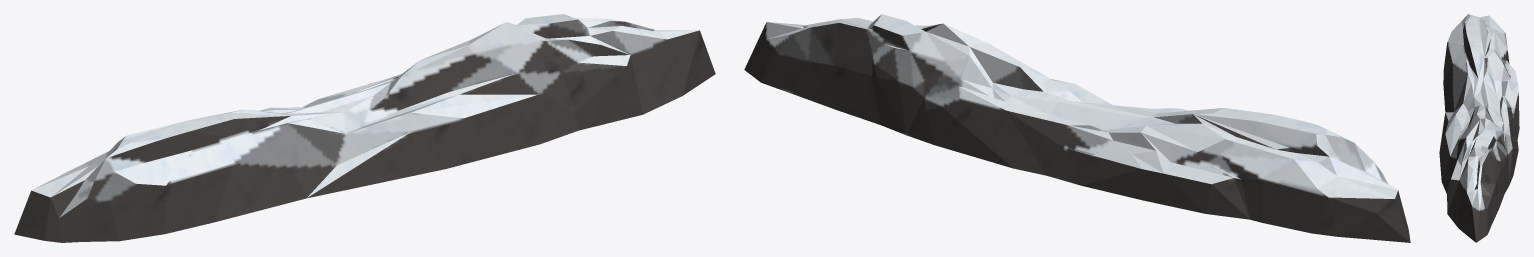
The model's file is pass_ledge.gltf.
The picture shows the model from 3 angles, left to right: view 1: azimuth 30°, elevation 25°; view 2: azimuth 150°, elevation 25°; view 3: azimuth 270°, elevation 25°; orthographic projection. The views are drawn at different scales.
Parts seen in each view (by area): view 1: pass_ledge; view 2: pass_ledge; view 3: pass_ledge.
Part boxes in pixels (left/top/right/bottom): pass_ledge: left=14, top=14, right=715, bottom=242; pass_ledge: left=744, top=14, right=1410, bottom=242; pass_ledge: left=1439, top=14, right=1519, bottom=242.
Size of the model in its own units: 9.9 by 1.37 by 1.61.
1 material, 1 textured.
